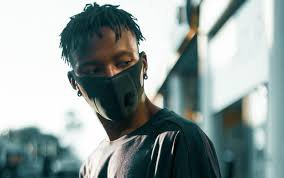mask: (54, 2, 154, 122)
